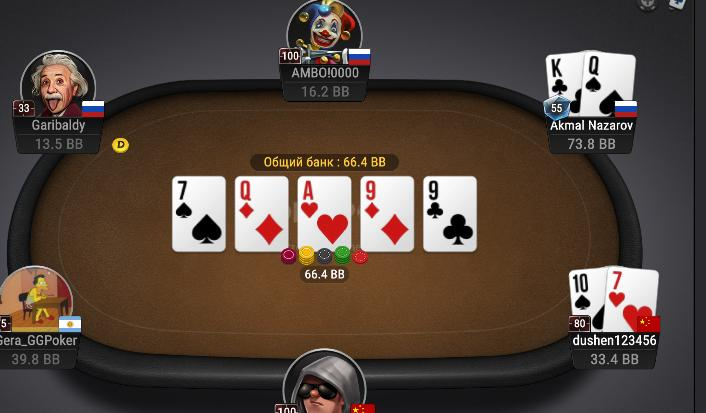10s: (569, 267, 605, 332)
7h: (605, 264, 658, 336)
7s: (173, 175, 226, 252)
9c: (424, 177, 475, 251)
9d: (361, 177, 412, 249)
Ah: (299, 177, 352, 251)
Kc: (546, 51, 584, 115)
Qd: (236, 177, 286, 251)
Qs: (585, 49, 633, 114)
